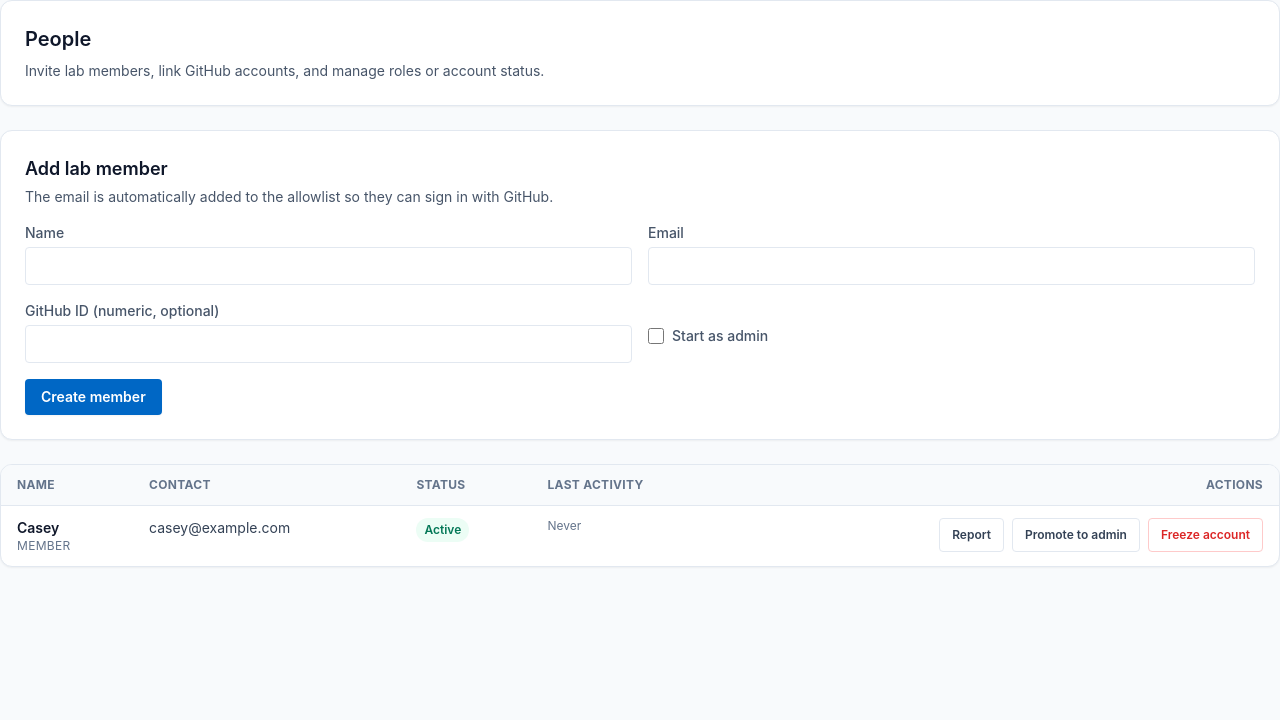
Scenario: UserAdminTable › promotes a member to admin
Step 1. Click the button "Promote to admin" → (1076, 535), box [1012,518,1140,552]
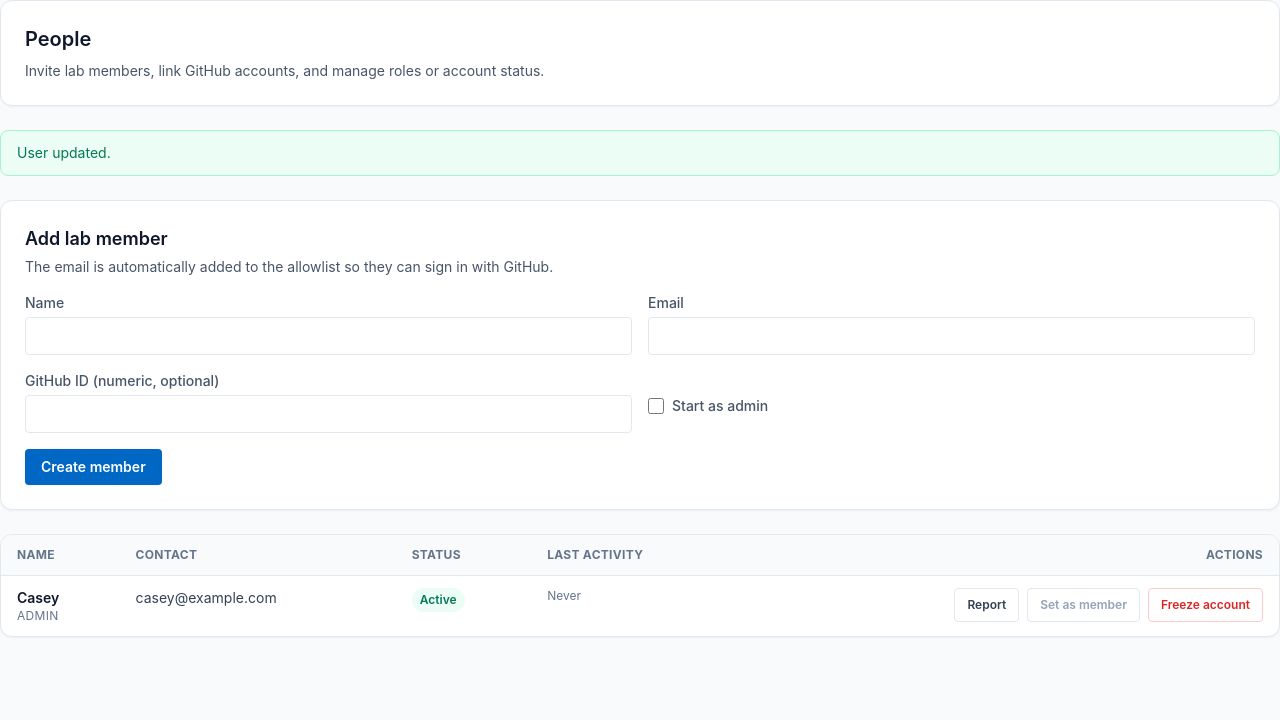
Expected: the button "Set as member" is shown, [1027,588,1140,622]
